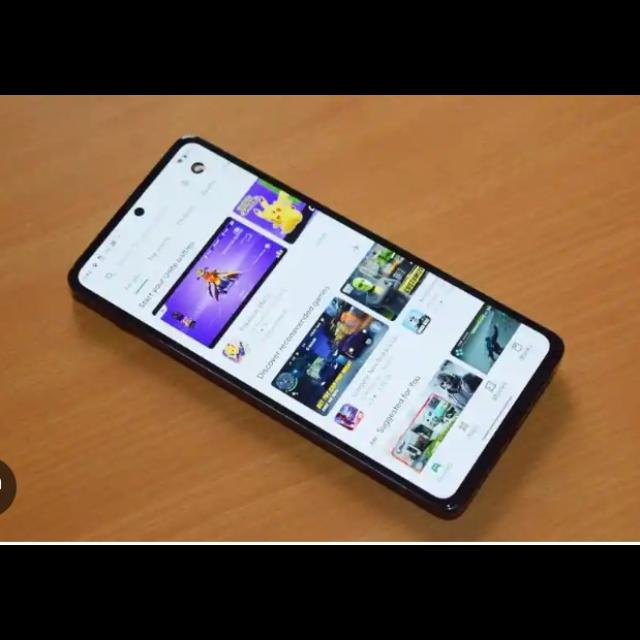Smartphone: (68, 136, 566, 521)
